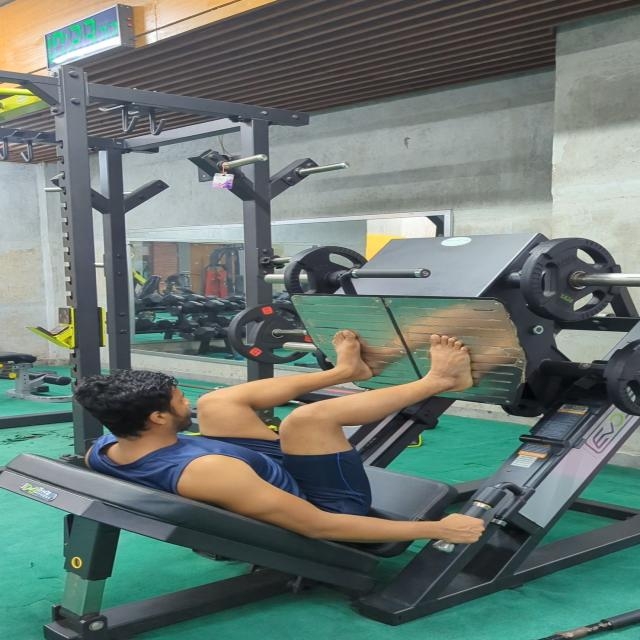Normal_LegPress: (62, 327, 507, 553)
